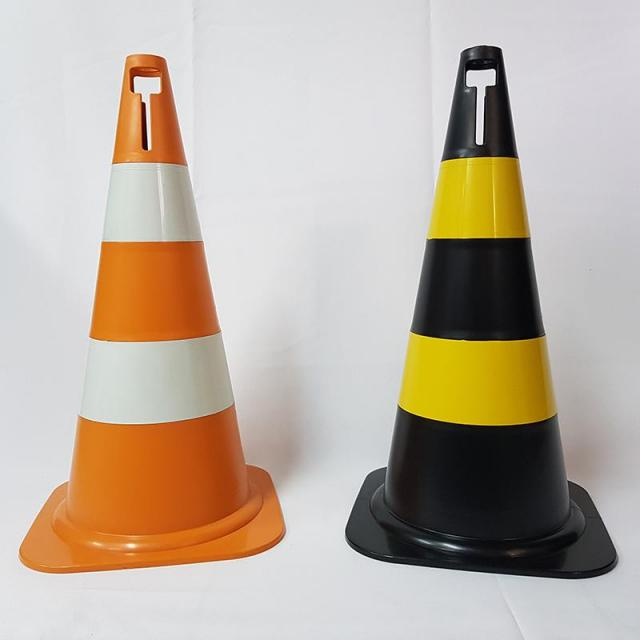cone: (19, 29, 301, 584), (364, 35, 631, 592)
